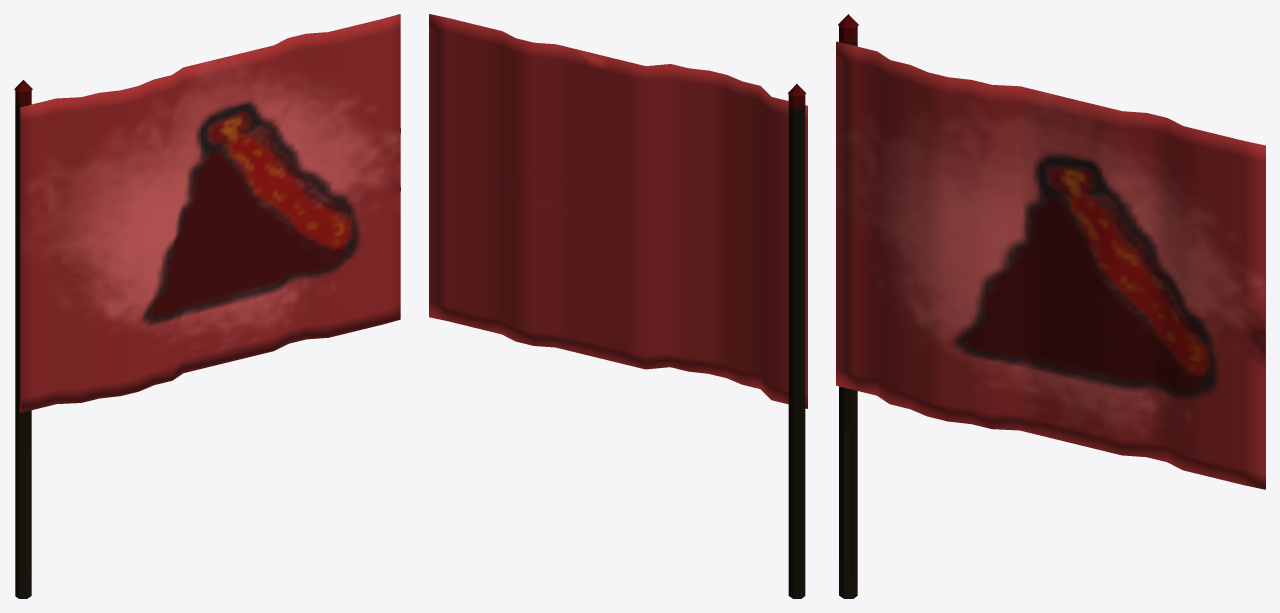
File: bandeiraVermelho.fbx
The picture shows the model from 3 angles, left to right: view 1: azimuth 30°, elevation 25°; view 2: azimuth 150°, elevation 25°; view 3: azimuth 330°, elevation 25°; orthographic projection. The views are drawn at different scales.
Visible parts, largest first — view 1: bandeiravermelha; view 2: bandeiravermelha; view 3: bandeiravermelha.
Boxes of the visible parts, bbox=[...] form: bandeiravermelha: bbox=[14, 14, 400, 598]; bandeiravermelha: bbox=[429, 14, 807, 598]; bandeiravermelha: bbox=[836, 14, 1265, 598].
Bounding box in the file's own units: 1.58 × 2.04 × 0.1294.
1 material, 1 textured.
